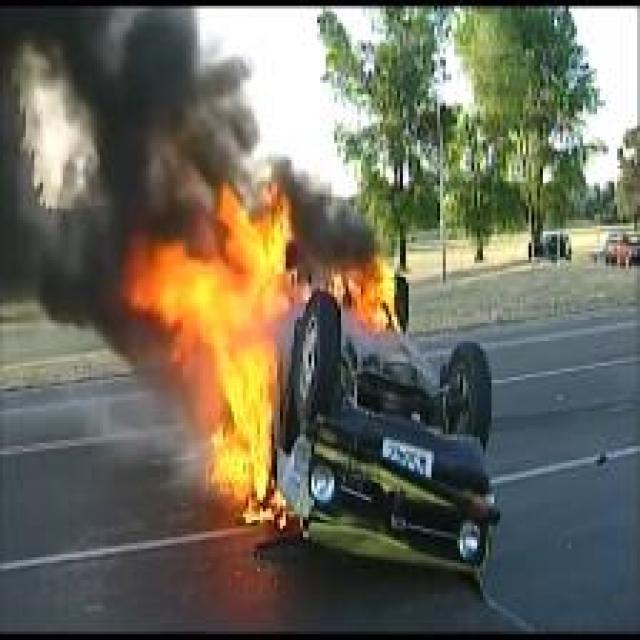Fire: (127, 172, 310, 528), (324, 253, 404, 336)
